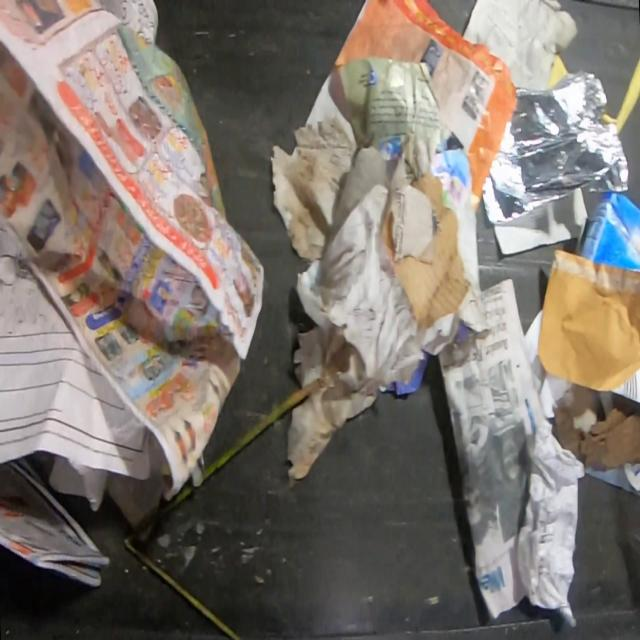cardboard: (380, 175, 468, 329)
soft_plastic: (481, 70, 630, 228)
